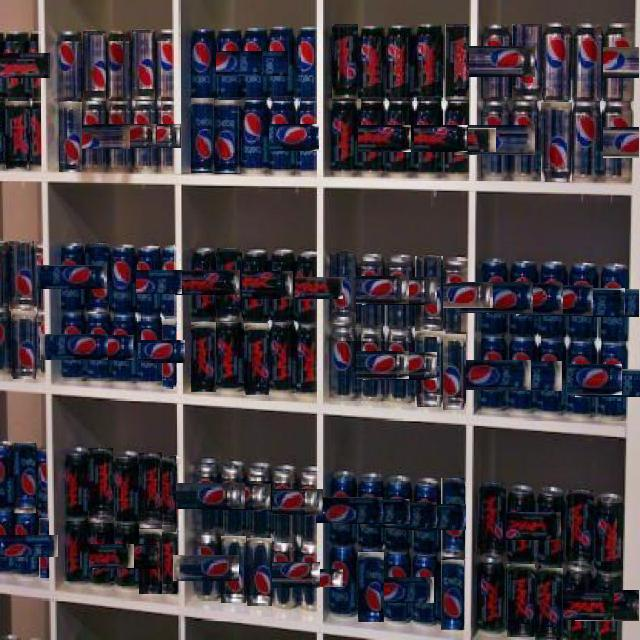Drinks: (571, 101, 603, 182), (540, 101, 572, 182), (508, 101, 540, 181), (454, 124, 535, 155), (594, 493, 625, 573), (572, 22, 603, 100), (542, 23, 573, 101), (536, 338, 567, 416), (511, 23, 542, 100), (458, 46, 535, 77), (486, 283, 563, 314), (456, 282, 533, 313), (483, 361, 562, 391), (544, 287, 625, 316), (565, 490, 594, 571), (536, 486, 565, 567), (515, 286, 593, 316), (544, 365, 622, 395), (413, 24, 444, 99), (477, 482, 506, 562), (454, 360, 531, 390), (414, 330, 443, 407), (482, 512, 561, 540), (543, 589, 614, 620), (414, 256, 443, 331), (506, 563, 535, 637), (477, 562, 506, 636), (387, 503, 466, 530), (534, 567, 563, 640), (387, 100, 414, 178), (334, 125, 411, 152), (331, 99, 358, 176), (360, 501, 437, 528), (306, 496, 383, 523), (389, 126, 468, 152), (574, 590, 640, 621), (332, 498, 410, 524), (386, 25, 413, 100), (331, 24, 358, 99), (242, 100, 269, 175), (214, 99, 241, 174), (362, 278, 437, 305), (334, 277, 409, 304), (329, 251, 356, 326), (218, 272, 293, 299), (215, 247, 242, 322), (362, 353, 437, 380), (334, 352, 409, 379), (246, 462, 272, 539), (194, 484, 271, 510), (359, 26, 386, 100), (578, 46, 640, 78), (246, 124, 319, 151), (269, 248, 295, 323), (87, 448, 113, 523), (268, 27, 295, 99), (329, 328, 356, 400), (215, 322, 242, 394), (441, 478, 465, 559), (412, 557, 439, 629), (246, 490, 323, 515), (168, 484, 245, 509), (578, 127, 640, 158), (363, 576, 434, 603), (357, 551, 384, 622), (329, 548, 356, 619), (574, 288, 640, 317), (417, 283, 493, 308), (575, 368, 640, 397), (418, 128, 496, 152), (270, 323, 296, 395), (243, 323, 269, 395), (166, 270, 240, 295), (445, 23, 469, 100), (442, 333, 466, 410), (138, 452, 162, 529), (112, 449, 136, 526), (106, 29, 132, 100), (56, 30, 82, 101), (110, 244, 136, 315), (8, 240, 34, 311), (190, 321, 216, 392), (112, 316, 138, 387), (190, 98, 214, 173), (220, 50, 289, 76), (194, 50, 263, 76), (190, 28, 216, 97), (4, 100, 30, 169), (10, 310, 36, 379), (246, 537, 272, 606), (107, 124, 181, 148), (83, 124, 157, 148), (40, 334, 108, 360), (60, 124, 130, 149), (64, 335, 134, 360), (220, 536, 246, 603), (268, 276, 343, 299), (131, 29, 155, 100), (82, 30, 106, 101), (58, 101, 82, 172), (85, 243, 109, 314), (440, 559, 464, 630), (64, 446, 87, 520), (252, 563, 320, 588), (112, 270, 182, 294), (172, 556, 239, 581), (114, 340, 185, 363), (13, 442, 36, 513), (37, 266, 107, 289), (138, 528, 162, 594), (68, 544, 134, 568), (65, 520, 89, 586), (93, 545, 157, 569), (295, 326, 316, 398), (296, 26, 316, 100), (298, 466, 316, 543), (0, 534, 58, 557), (297, 101, 315, 175), (0, 52, 50, 78), (271, 569, 343, 587), (157, 100, 174, 174), (156, 29, 173, 100), (161, 455, 176, 532), (160, 245, 175, 317), (161, 318, 176, 389), (162, 530, 177, 594), (36, 447, 47, 518), (38, 517, 49, 578)
